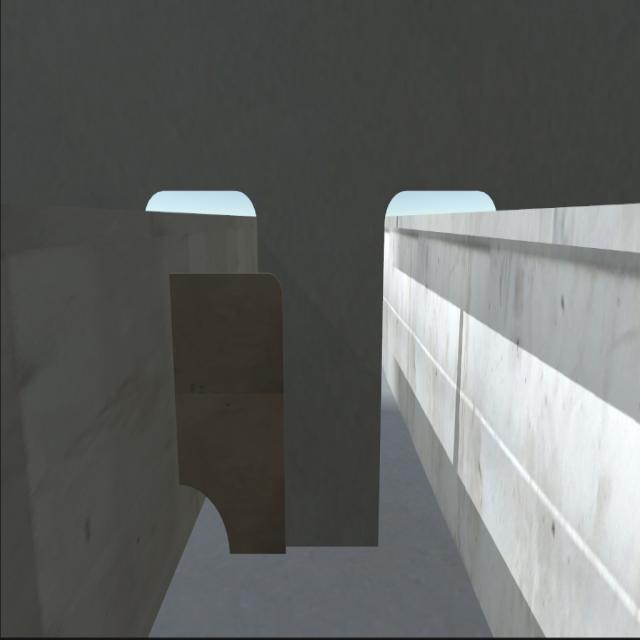fillet_hole: (184, 482, 230, 561)
fillet_yong_jeop_jang: (220, 533, 386, 563)
longi_yong_jeop_jang: (165, 273, 189, 484)
plate_CP05: (170, 266, 289, 554)
